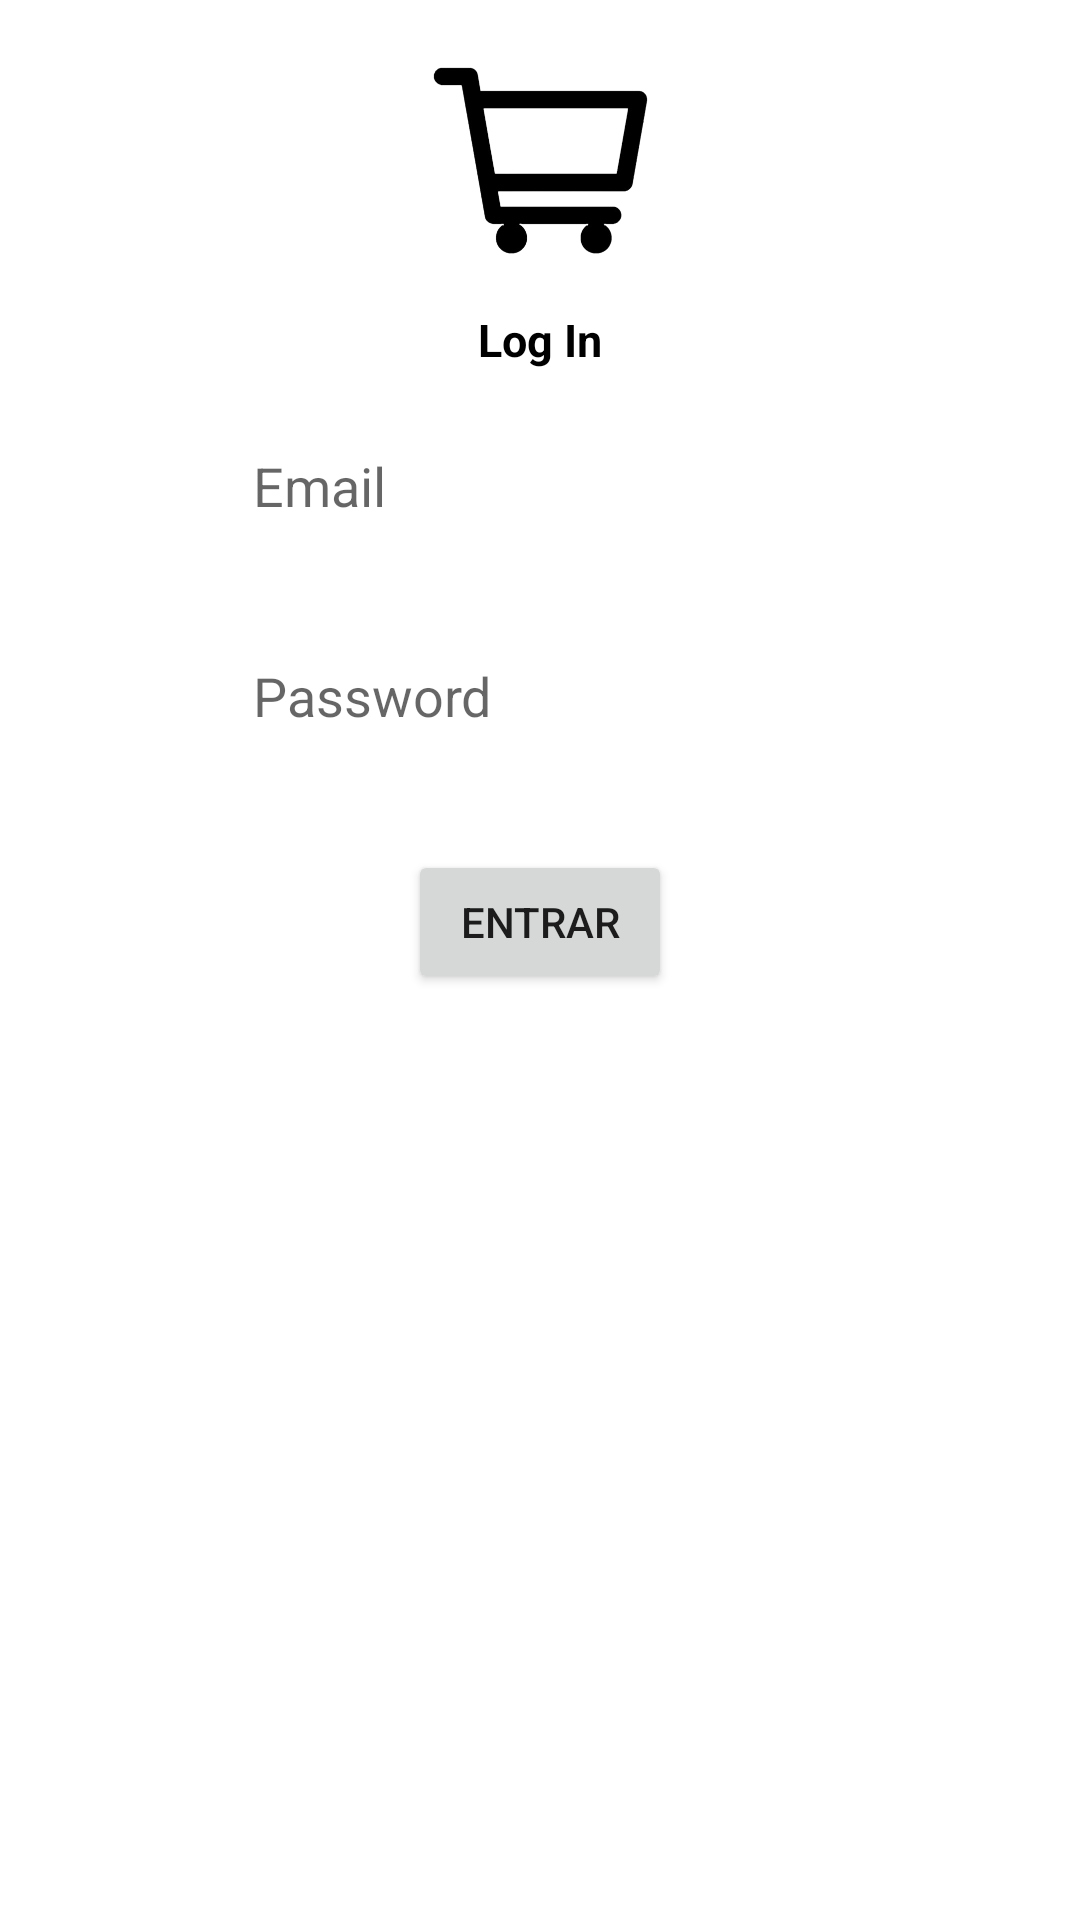

Point at icon controls on the screen. Image size 1080w x 1920h, points as [x,y].
cart nob: [540,160]
